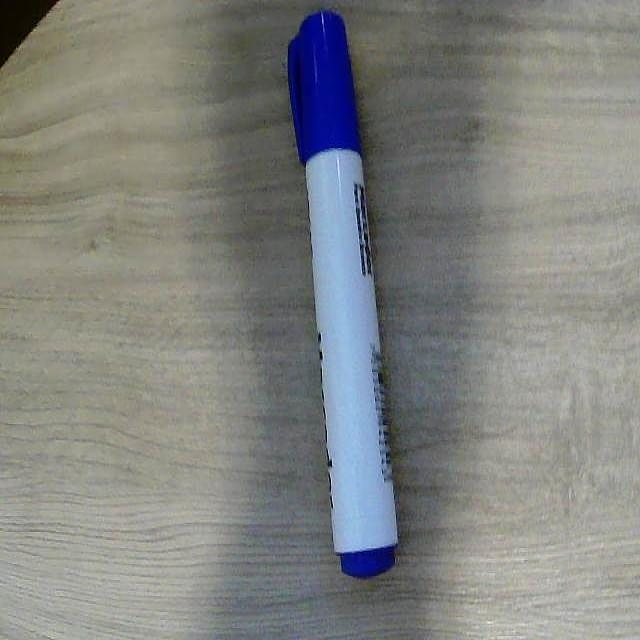caneta: (279, 0, 455, 605)
